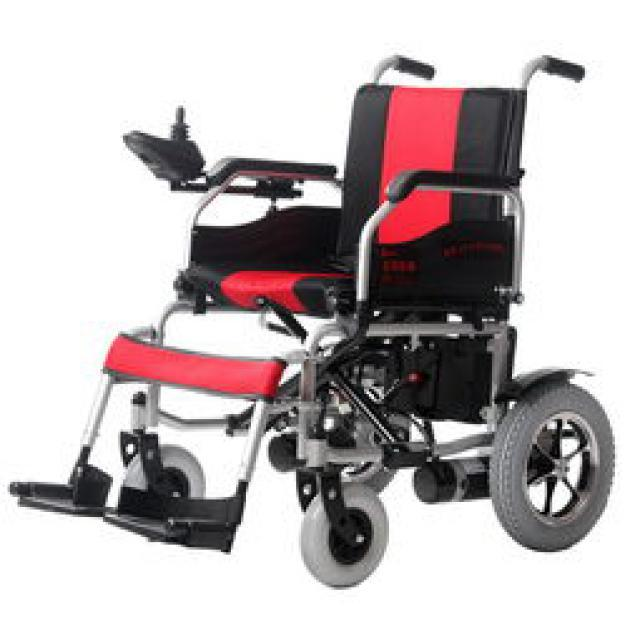wheelchair: (0, 30, 625, 590)
